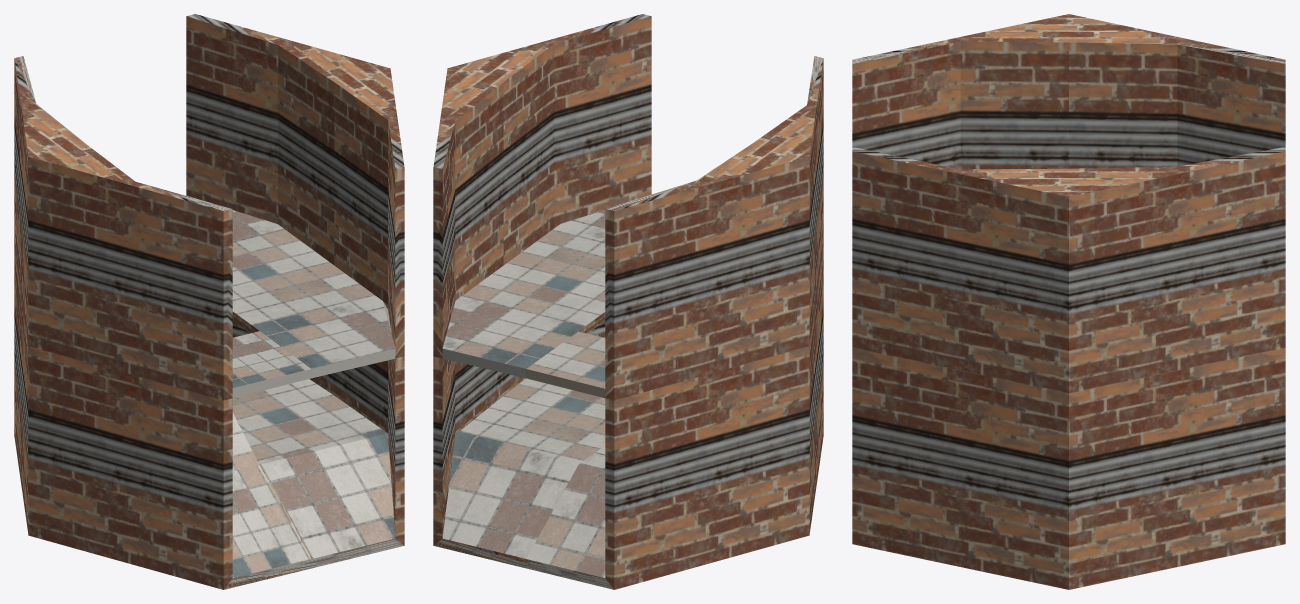
Rendered from tile8.dae.
3 views of the same model, side by side, from view 1: azimuth 30°, elevation 25°; view 2: azimuth 150°, elevation 25°; view 3: azimuth 270°, elevation 25° (orthographic). The views are drawn at different scales.
Visible parts, largest first — view 1: Cube; view 2: Cube; view 3: Cube.
Boxes of the visible parts, left/top/right/bottom form: Cube: left=14, top=14, right=404, bottom=589; Cube: left=433, top=14, right=823, bottom=589; Cube: left=852, top=14, right=1285, bottom=589.
Size of the model in its own units: 10 by 10 by 10.
Materials: 1 (1 with a texture image).
